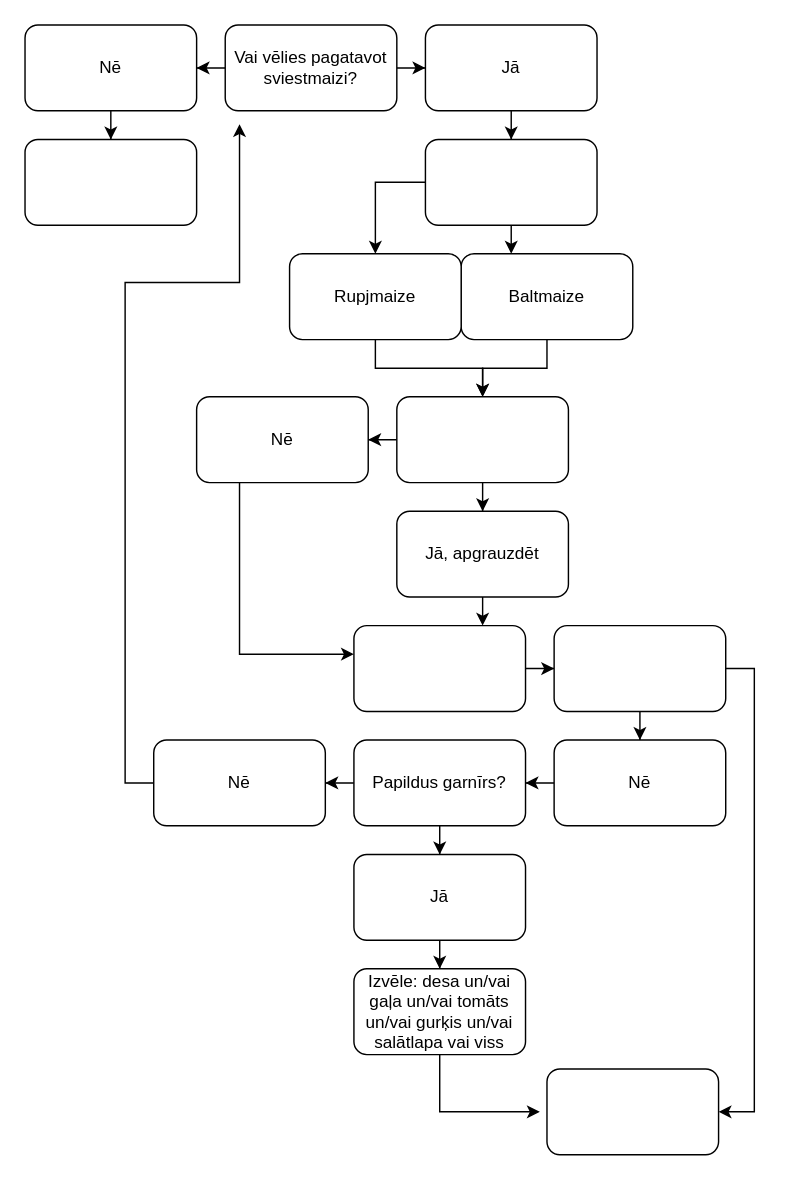
The diagram is 791 pixels wide and 1180 high, and some of its shapes have lost their labels. Here are the shapes that lost their labels. From the top down, the centre of each, then its label:
the point at 110,181: Beigt darbību
the point at 510,181: Maizes izvēle
the point at 481,439: Apgrauzdēt?
the point at 439,667: Sviesta uzklāšana
the point at 639,667: Gatavs lietošanai?
the point at 632,1111: Gatavs lietošanai
